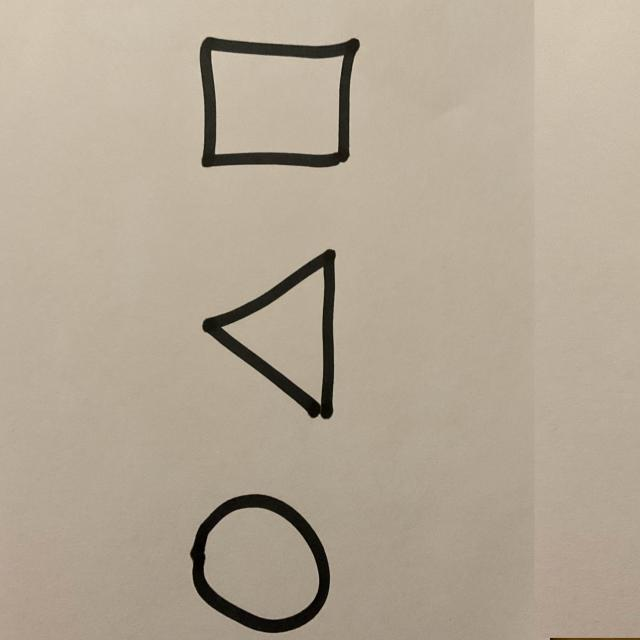Dreieck: (201, 251, 337, 423)
Kreis: (191, 494, 333, 637)
Quadrat: (198, 36, 361, 171)
